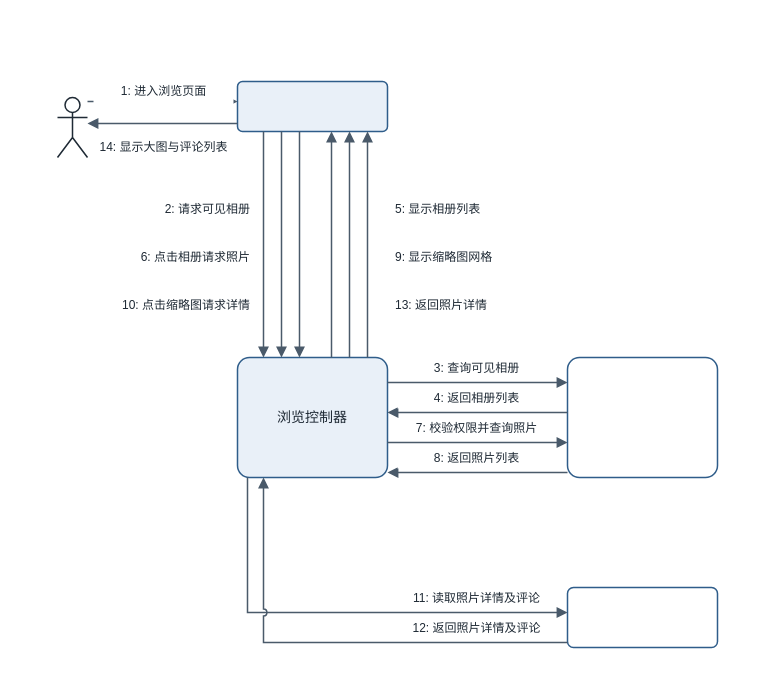
This 758x688 diagram has some shape labels left out. Each missing label, with the centre of its shape:
"普通用户" belongs at pixel 72 127.
"浏览页面" belongs at pixel 312 106.
"照片" belongs at pixel 642 617.
"相册" belongs at pixel 642 417.
